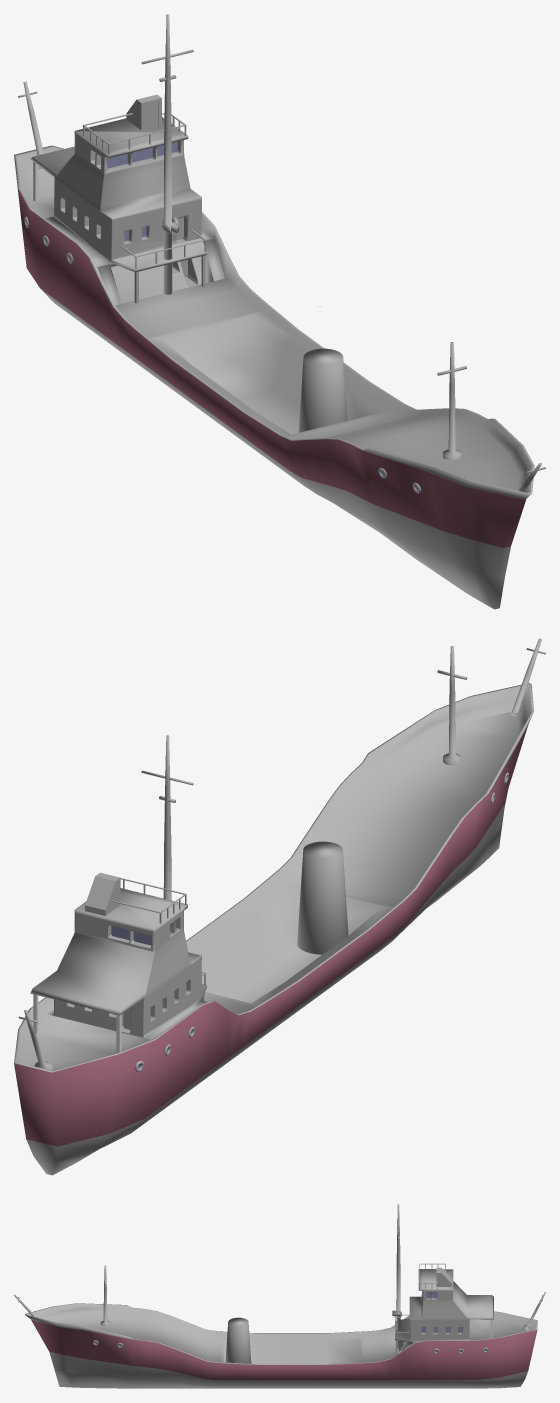
The model's file is D4_Ship8.glb.
3 renders of one model, top to bottom at view 1: azimuth 30°, elevation 25°; view 2: azimuth 150°, elevation 25°; view 3: azimuth 270°, elevation 25°, orthographic. The views are drawn at different scales.
Parts seen in each view (by area): view 1: Object_6, Object_2, Cylinder, Object_4; view 2: Object_6, Object_2, Cylinder; view 3: Object_6, Object_2, Cylinder.
Part boxes in pixels (x1,y1,x2,y2): Object_6: (14, 14, 545, 609); Object_2: (15, 164, 526, 548); Cylinder: (298, 348, 347, 432); Object_4: (26, 141, 418, 490); Object_6: (14, 638, 545, 1175); Object_2: (14, 726, 527, 1146); Cylinder: (297, 841, 348, 954); Object_6: (14, 1204, 545, 1388); Object_2: (31, 1319, 537, 1379); Cylinder: (225, 1317, 251, 1363).
Size of the model in its own units: 6.14 by 16.34 by 43.39.
5 materials, 1 textured.
